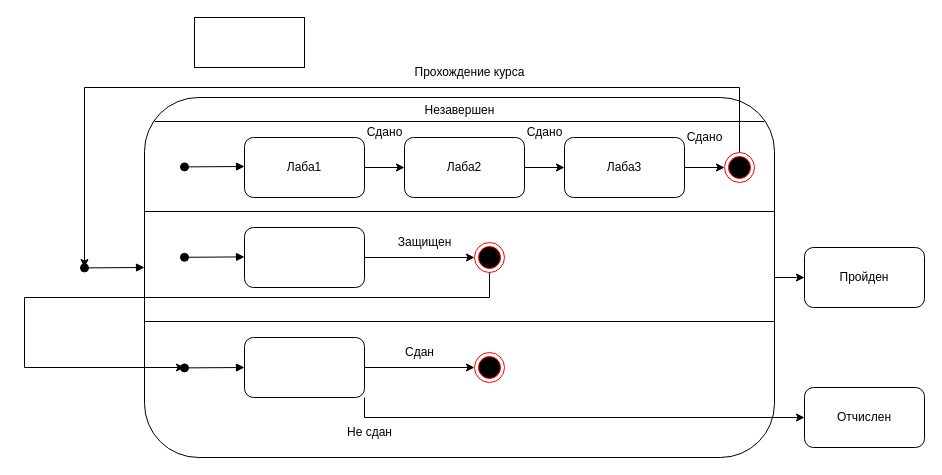
The diagram is 942 pixels wide and 475 high, and some of its shapes have lost their labels. Each missing label, with the centre of its shape:
диаграмму состояния (Statechart): the point at 249,42
Курсовой проект: the point at 304,257
Экзамен: the point at 304,367
